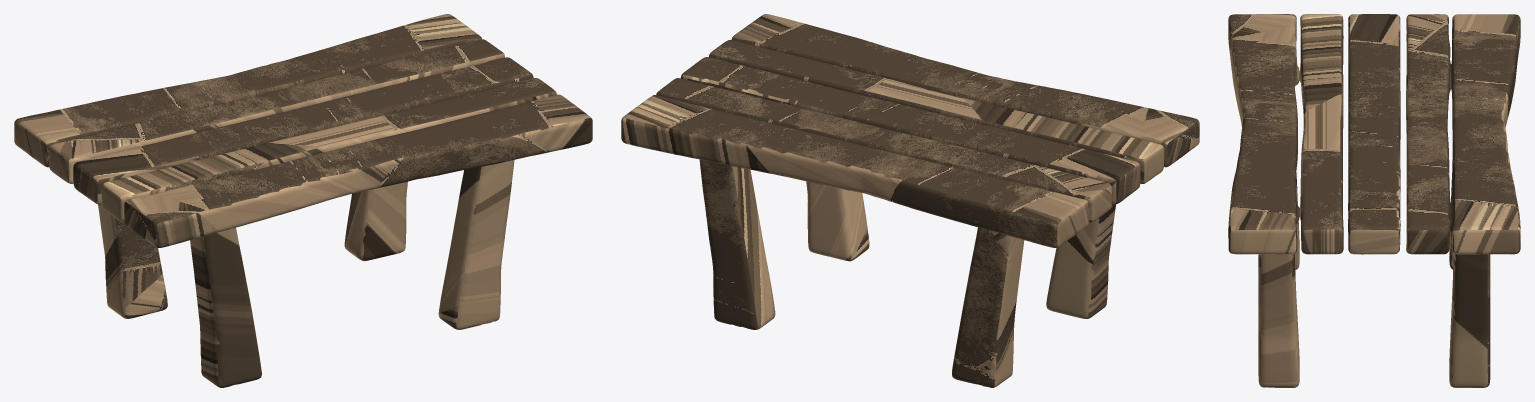
File: Table.fbx
3 renders of one model, left to right at view 1: azimuth 30°, elevation 25°; view 2: azimuth 150°, elevation 25°; view 3: azimuth 270°, elevation 25°, orthographic.
Visible parts, largest first — view 1: tmpzr6insic.ply; view 2: tmpzr6insic.ply; view 3: tmpzr6insic.ply.
Boxes of the visible parts, x1=… form: tmpzr6insic.ply: x1=14, y1=14, x2=592, y2=387; tmpzr6insic.ply: x1=621, y1=14, x2=1199, y2=387; tmpzr6insic.ply: x1=1228, y1=14, x2=1520, y2=387.
Size of the model in its own units: 199 by 85.72 by 114.
